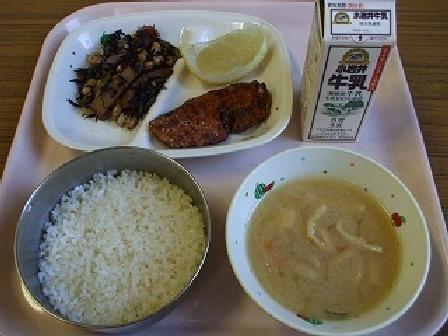Citrus: (180, 18, 284, 92)
Milk: (297, 0, 405, 144)
Rice: (24, 159, 206, 317)
Soups: (232, 149, 422, 320)
cutlet: (140, 77, 271, 153)
salad with sauce: (75, 17, 166, 121)
